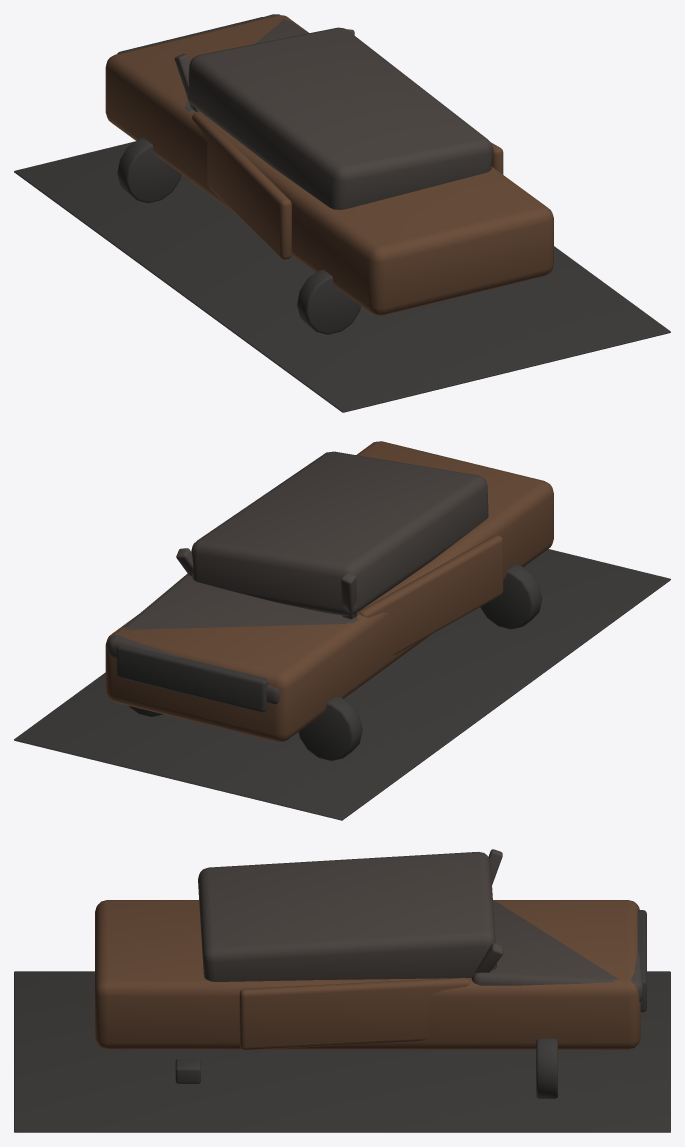
The model's file is wreck_car_v1.glb.
3 renders of one model, top to bottom at view 1: azimuth 30°, elevation 25°; view 2: azimuth 150°, elevation 25°; view 3: azimuth 270°, elevation 25°, orthographic.
Visible parts, largest first — view 1: WreckCar; view 2: WreckCar; view 3: WreckCar.
Boxes of the visible parts, x1,y1,x2,y2 form: WreckCar: (14, 14, 670, 412); WreckCar: (14, 441, 670, 820); WreckCar: (14, 849, 670, 1132).
Size of the model in its own units: 3 by 1.44 by 5.2.
